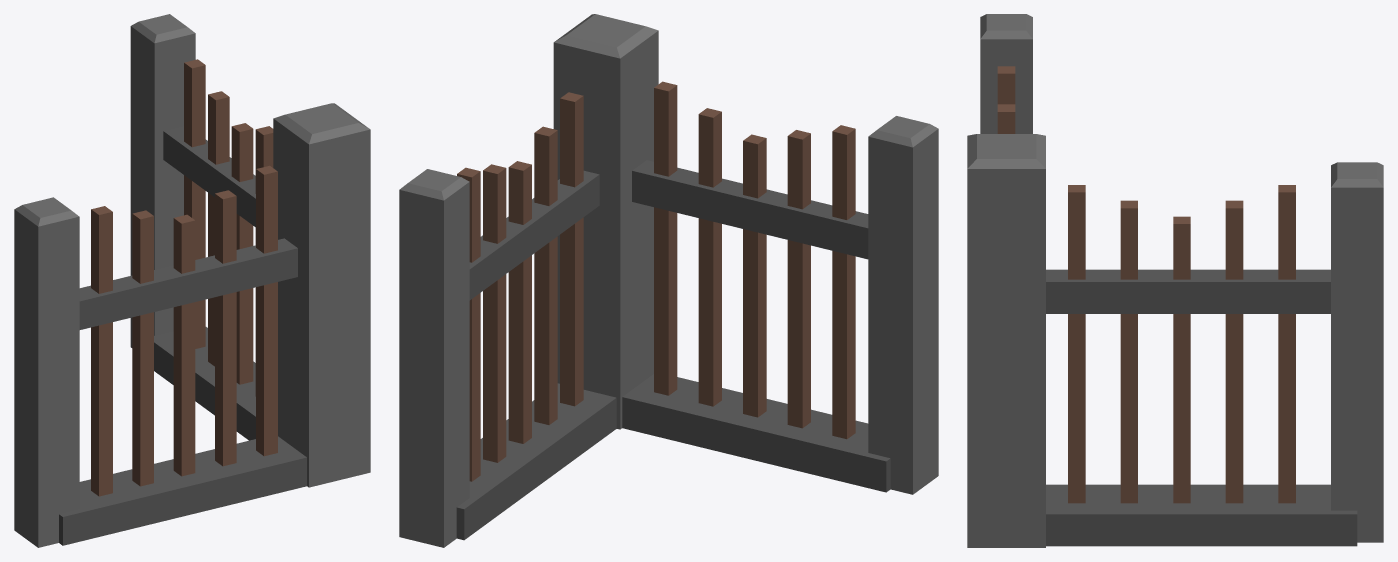
File: SM_FloorProps_Fence_05.fbx
3 views of the same model, side by side, from view 1: azimuth 30°, elevation 25°; view 2: azimuth 150°, elevation 25°; view 3: azimuth 270°, elevation 25° (orthographic). The views are drawn at different scales.
Visible parts, largest first — view 1: SM_FloorProps_Fence_05; view 2: SM_FloorProps_Fence_05; view 3: SM_FloorProps_Fence_05.
Boxes of the visible parts, bbox=[...] form: SM_FloorProps_Fence_05: bbox=[14, 14, 370, 547]; SM_FloorProps_Fence_05: bbox=[399, 14, 938, 547]; SM_FloorProps_Fence_05: bbox=[967, 14, 1383, 547].
Bounding box in the file's own units: 2.37 × 2.42 × 2.37.
